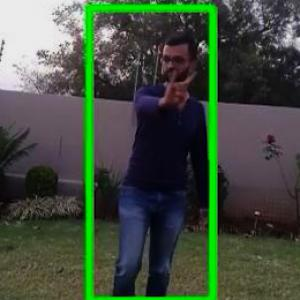takeoff-hand: (155, 54, 196, 112)
